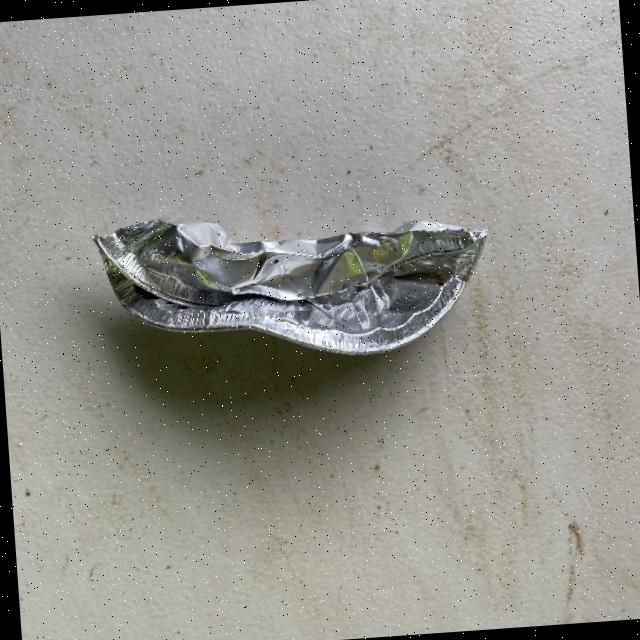metal: (90, 194, 494, 374)
